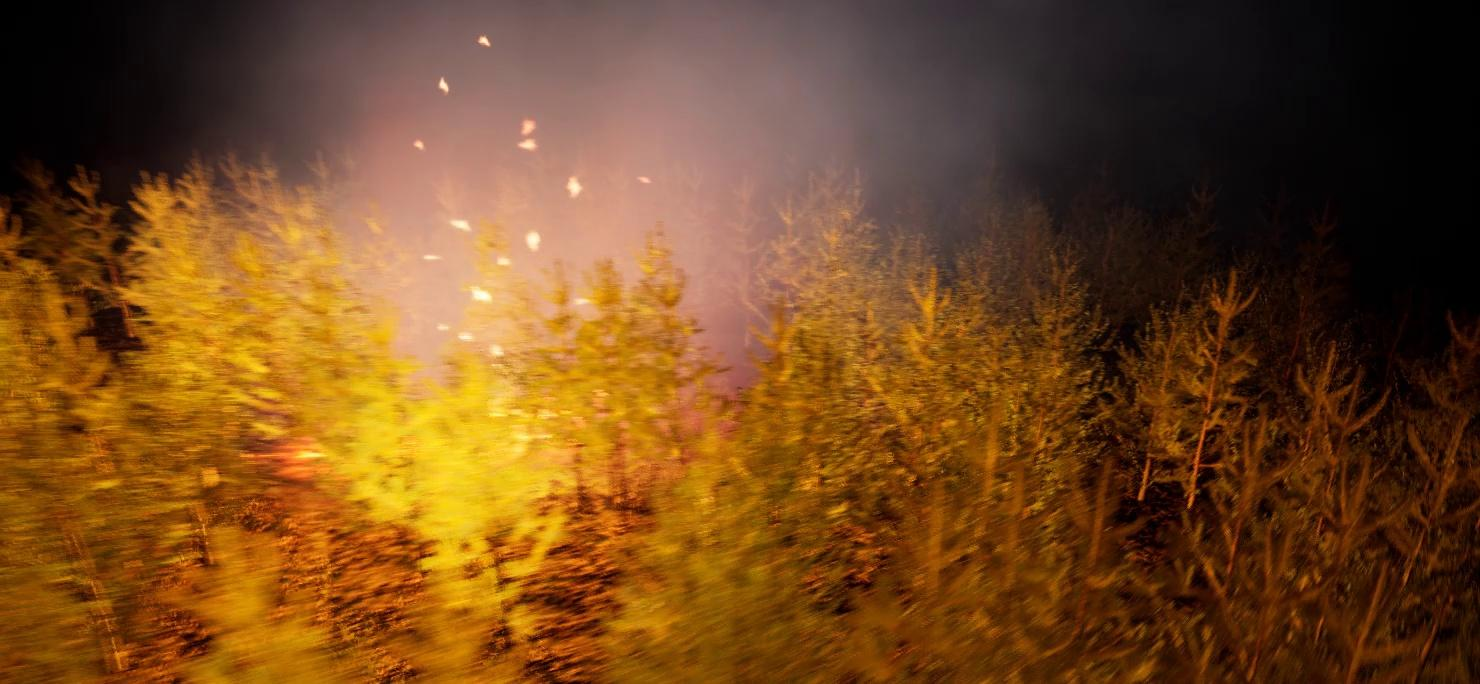fire: (262, 23, 692, 604)
smoke: (216, 0, 1039, 323)
